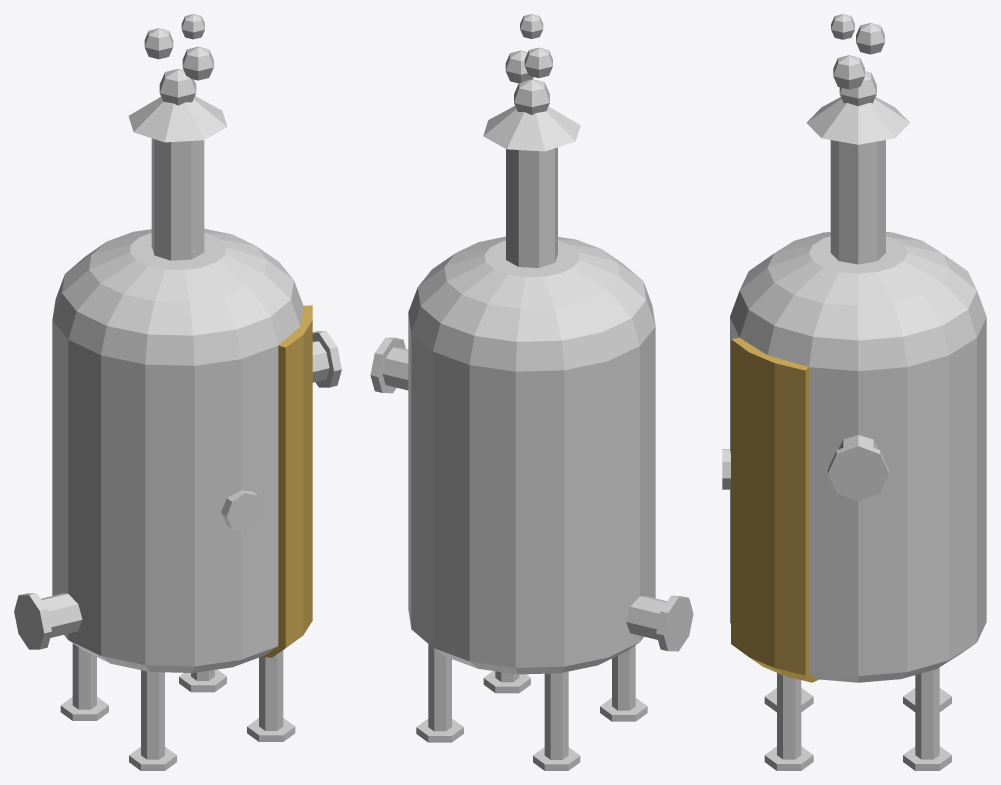
The model's file is kettle.glb.
The picture shows the model from 3 angles, left to right: view 1: azimuth 30°, elevation 25°; view 2: azimuth 150°, elevation 25°; view 3: azimuth 270°, elevation 25°; orthographic projection. The views are drawn at different scales.
Parts seen in each view (by area): view 1: shell, liquid, stack, stack.cap, leg.3, leg.0, outlet, leg.2, sight, outlet.flange, steam.0, steam.1 (+7 smaller); view 2: shell, stack, stack.cap, leg.2, leg.1, outlet, leg.3, outlet.flange, steam.0, inlet, inlet.flange, steam.2 (+5 smaller); view 3: shell, liquid, stack, stack.cap, leg.1, leg.0, inlet.flange, inlet, steam.1, steam.0, steam.2, leg.1.foot (+2 smaller).
Part boxes in pixels (box(x1,y1,x2,y2)): shell: box(52, 228, 303, 672); liquid: box(261, 305, 312, 657); stack: box(151, 138, 204, 260); stack.cap: box(128, 96, 227, 142); leg.3: box(141, 670, 164, 759); leg.0: box(259, 650, 283, 730); outlet: box(19, 593, 82, 641); leg.2: box(72, 643, 96, 709); sight: box(221, 490, 263, 531); outlet.flange: box(14, 593, 51, 649); steam.0: box(159, 69, 196, 105); steam.1: box(182, 46, 213, 80); shell: box(408, 236, 655, 674); stack: box(506, 147, 557, 267); stack.cap: box(483, 106, 580, 151); leg.2: box(544, 671, 568, 759); leg.1: box(428, 644, 451, 731); outlet: box(626, 596, 688, 643); leg.3: box(612, 645, 635, 710); outlet.flange: box(656, 595, 693, 651); steam.0: box(514, 79, 549, 114); inlet: box(382, 347, 408, 390); inlet.flange: box(370, 337, 405, 393); steam.2: box(524, 47, 552, 78); shell: box(730, 232, 986, 682); liquid: box(731, 337, 818, 682); stack: box(830, 140, 885, 264); stack.cap: box(806, 97, 909, 144); leg.1: box(915, 667, 939, 759); leg.0: box(777, 673, 801, 759); inlet.flange: box(827, 442, 888, 501); inlet: box(837, 435, 879, 492); steam.1: box(833, 55, 864, 89); steam.0: box(839, 71, 876, 106); steam.2: box(856, 23, 884, 54); leg.1.foot: box(903, 746, 951, 770).
Size of the model in its own units: 1.14 by 2.6 by 0.865.
